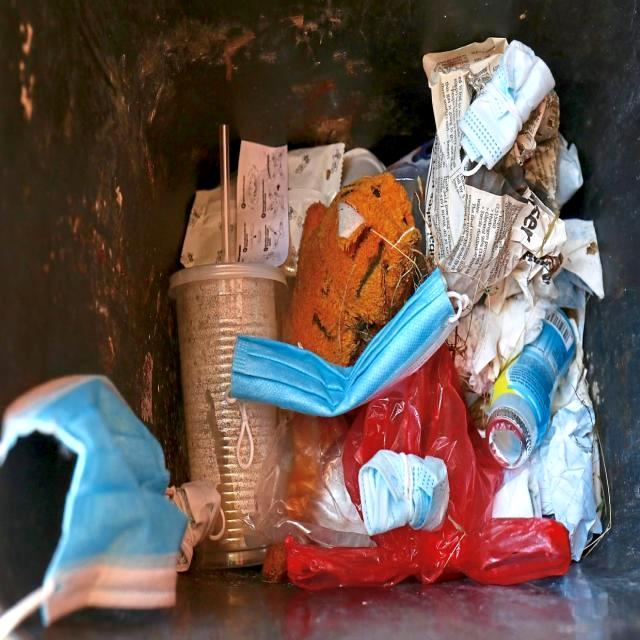Mask: (0, 372, 188, 640), (228, 264, 470, 471), (456, 38, 556, 175), (358, 446, 452, 534)
Paper: (166, 256, 292, 574)
